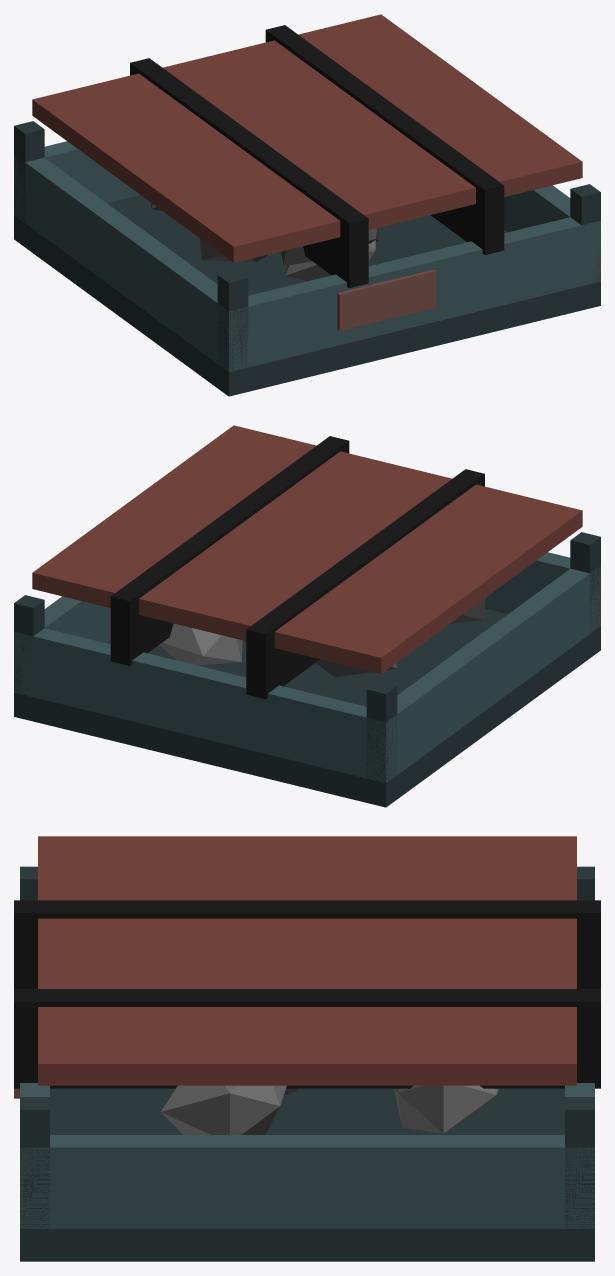
File: ancient_steel_slag_pallet_closed.obj
3 views of the same model, one above another, from view 1: azimuth 30°, elevation 25°; view 2: azimuth 150°, elevation 25°; view 3: azimuth 270°, elevation 25° (orthographic). The views are drawn at different scales.
Parts seen in each view (by area): view 1: ancient_steel_slag_pallet_closed; view 2: ancient_steel_slag_pallet_closed; view 3: ancient_steel_slag_pallet_closed.
Part boxes in pixels (<box>): ancient_steel_slag_pallet_closed: <box>14,14,600,396</box>; ancient_steel_slag_pallet_closed: <box>14,425,600,807</box>; ancient_steel_slag_pallet_closed: <box>14,836,600,1261</box>.
Bounding box in the file's own units: 1.92 × 0.72 × 1.96.
